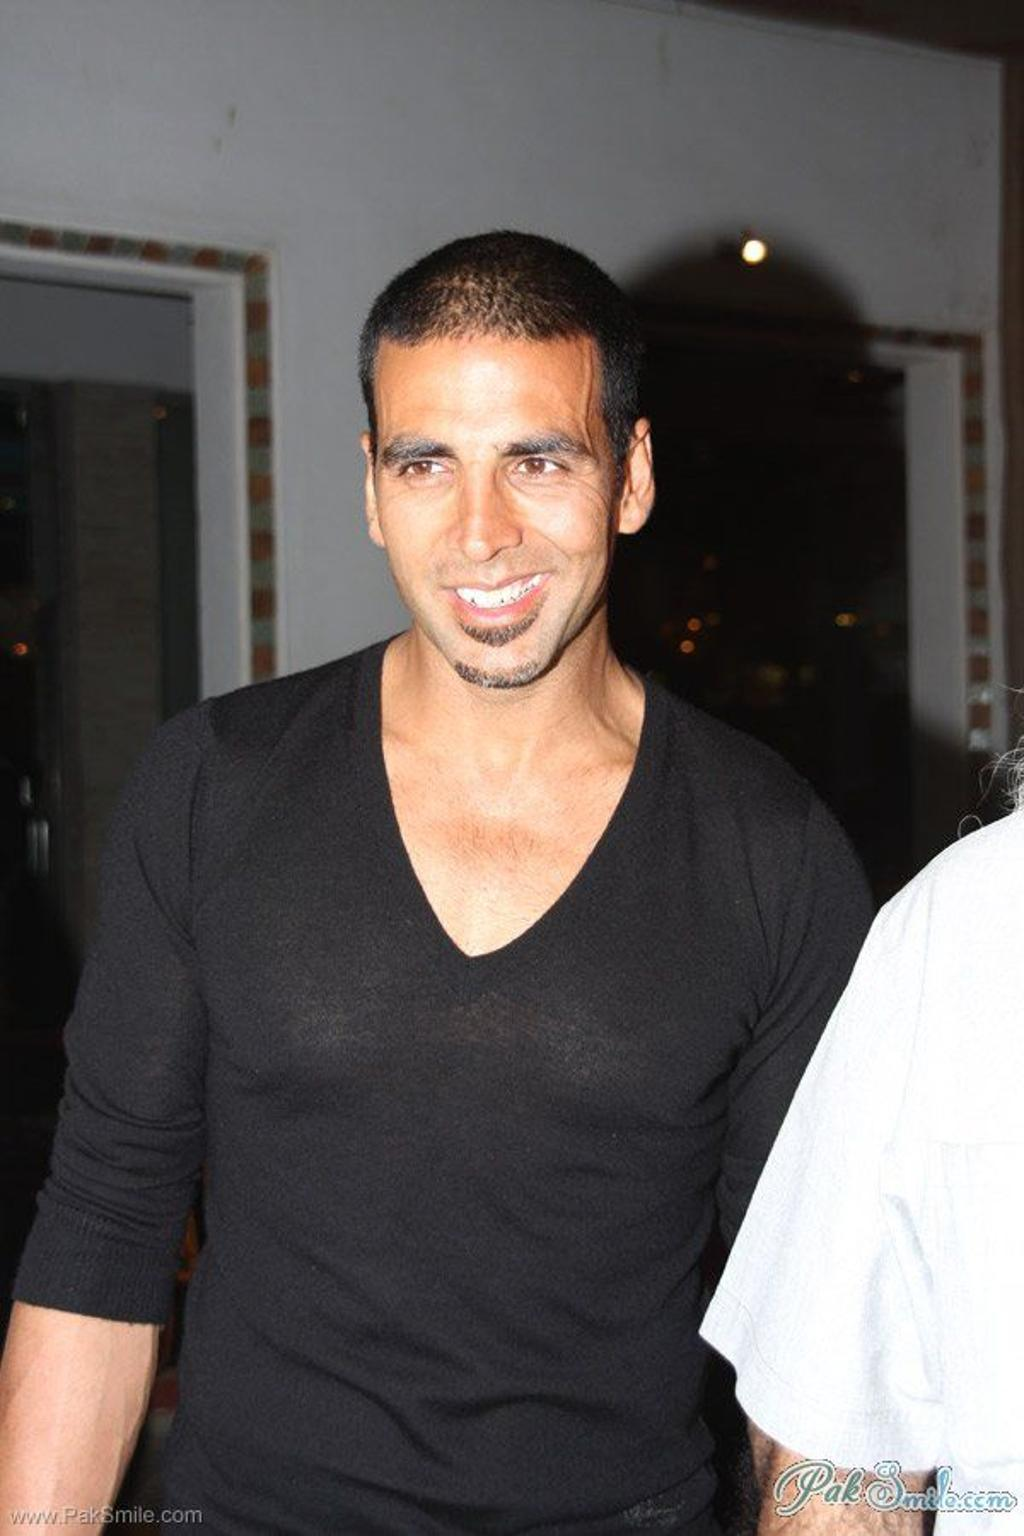face: (370, 343, 622, 691)
